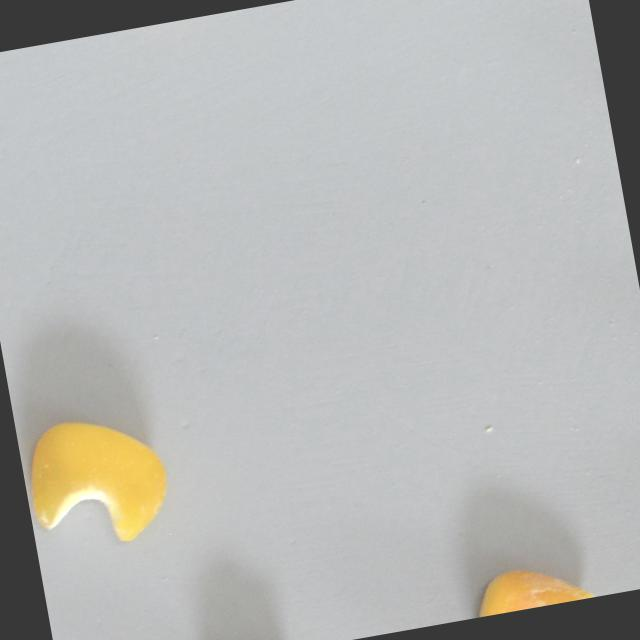no_canjicado: (17, 404, 175, 555)
pelicula: (465, 554, 595, 618)
